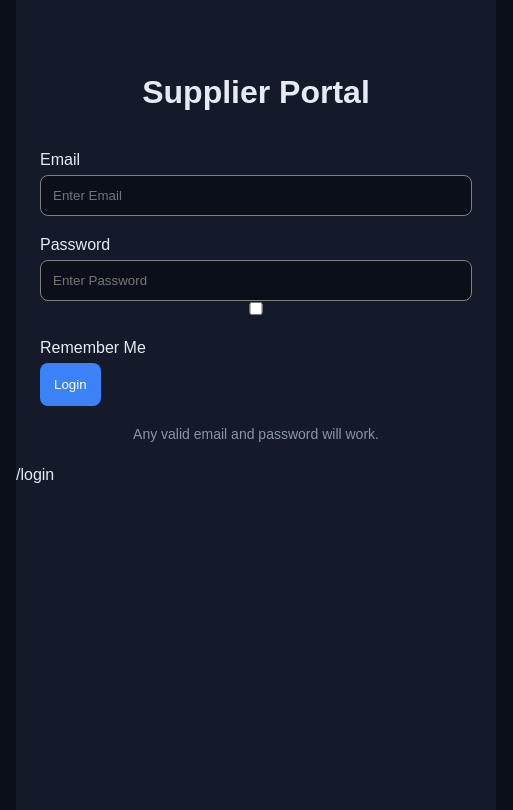
Scenario: Login › does not submit when the password is empty
The width and height of the screenshot is (513, 810).
In the field with placeholder "Enter Email": (256, 196) top-left (40, 175), bottom-right (472, 216), type "supplier@company.com"
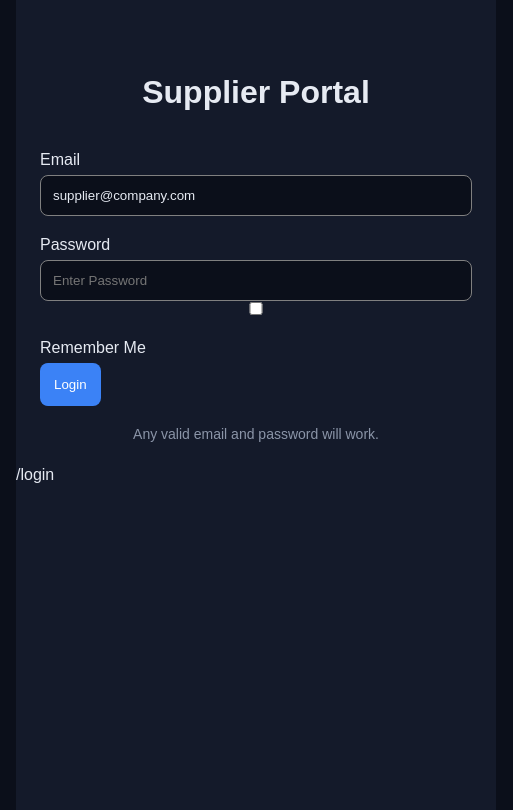
Click the button "Login": click(70, 384) top-left (40, 363), bottom-right (101, 406)
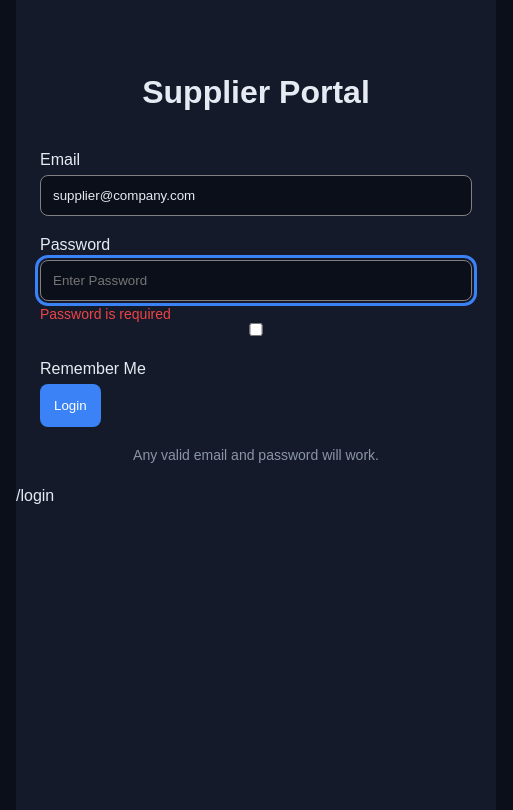
Expected: the text "Password is required" is shown, top-left (40, 306), bottom-right (171, 322)
